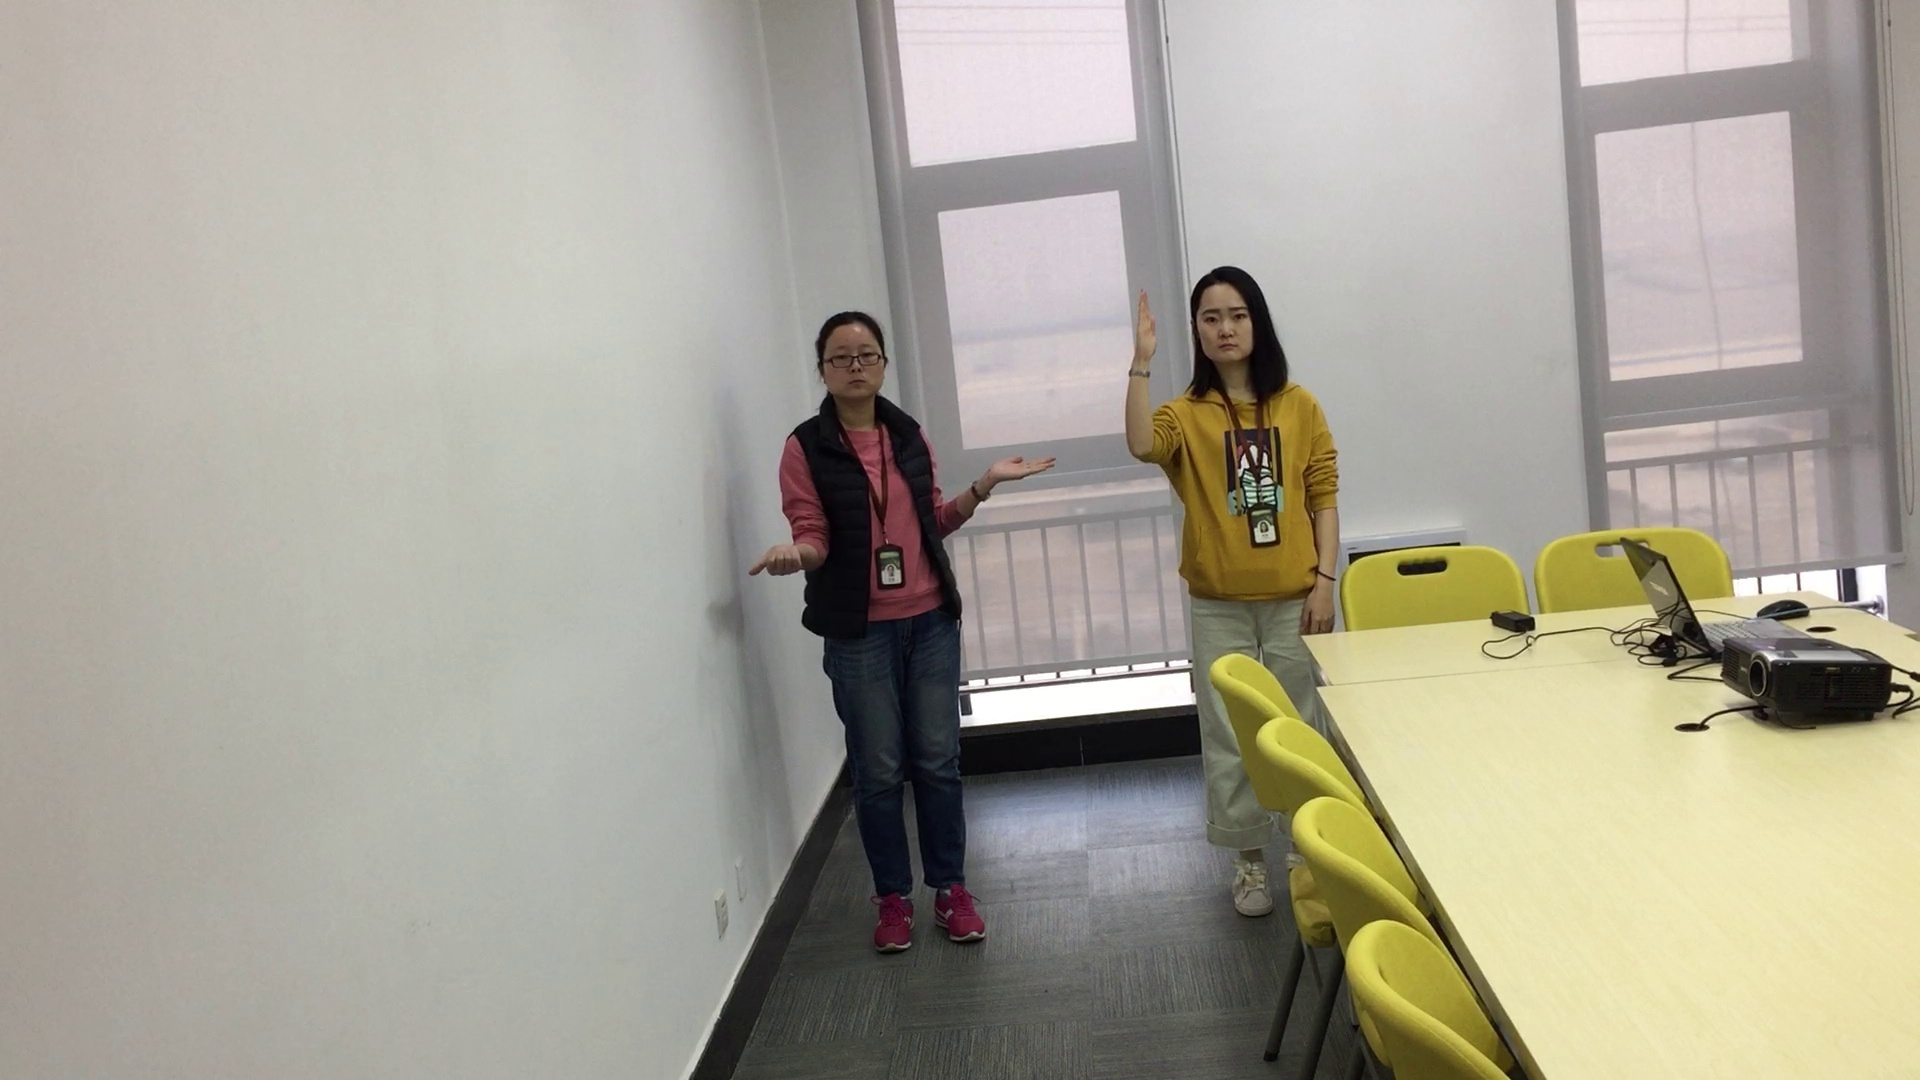person: (751, 310, 1059, 951), (1128, 270, 1339, 914)
